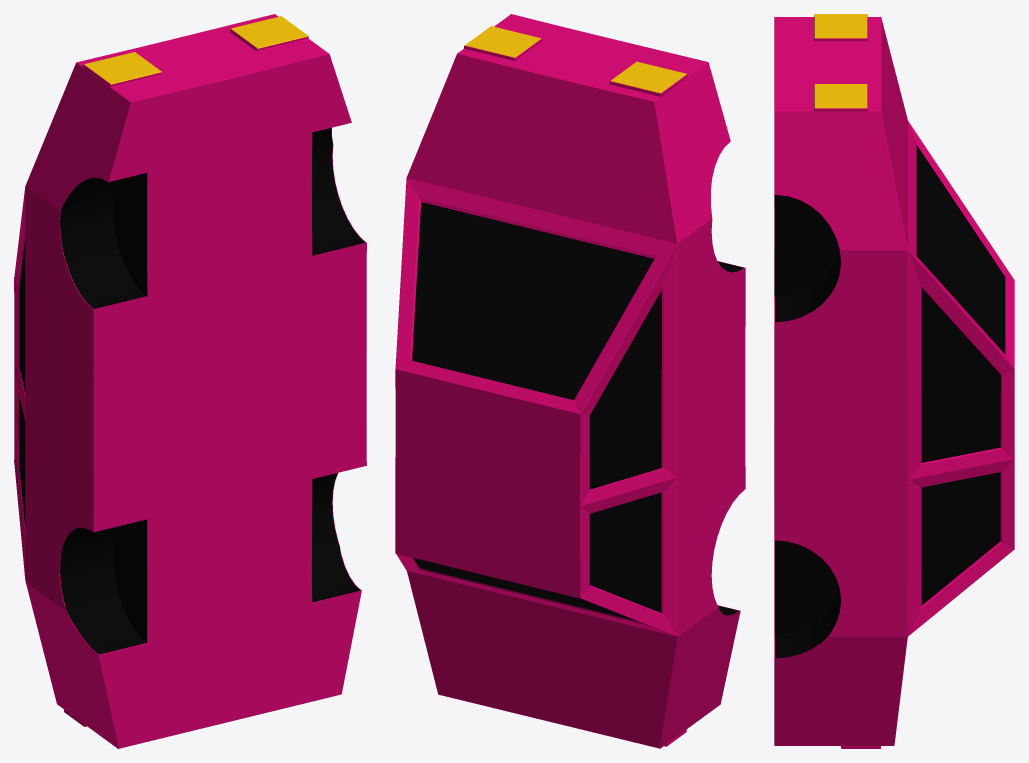
Rendered from Car_LowPoly.fbx.
3 renders of one model, left to right at view 1: azimuth 30°, elevation 25°; view 2: azimuth 150°, elevation 25°; view 3: azimuth 270°, elevation 25°, orthographic. The views are drawn at different scales.
Visible parts, largest first — view 1: Car; view 2: Car; view 3: Car.
Part boxes in pixels (x1=…): Car: x1=14, y1=14, x2=366, y2=748; Car: x1=395, y1=14, x2=745, y2=748; Car: x1=774, y1=14, x2=1014, y2=748.
Bounding box in the file's own units: 231 × 525 × 180.
